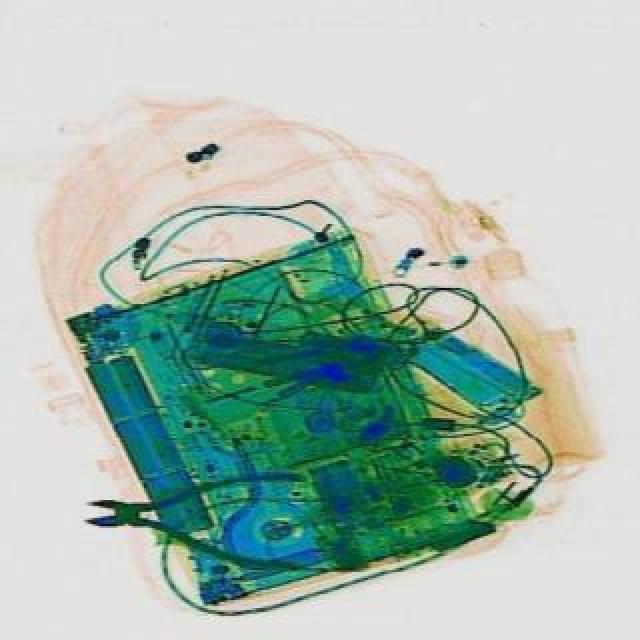wrench: (80, 462, 302, 570)
